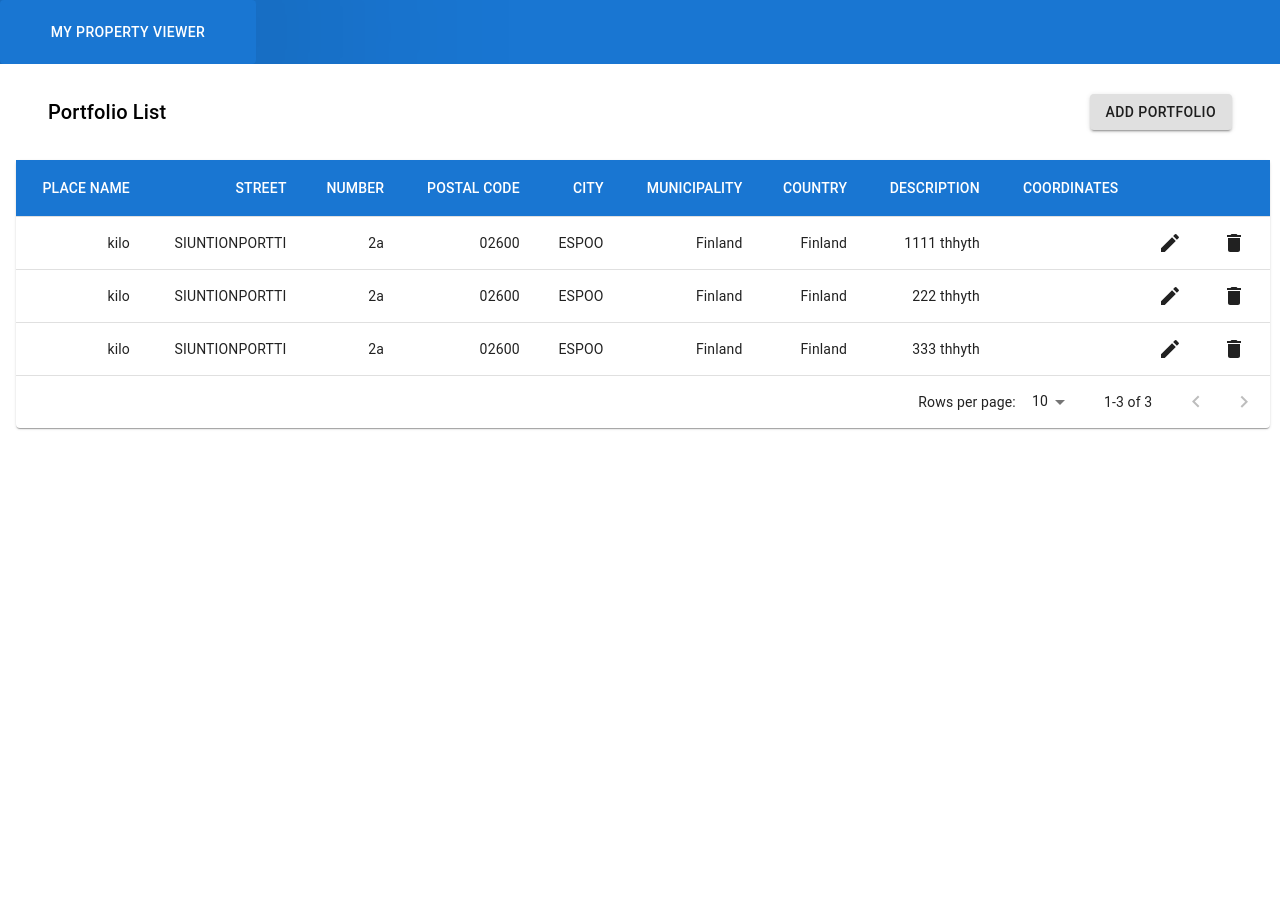
Scenario: App component › renders "open Create New Portfolio page" if Add Portfolio button was clicked
Click the button "Add Portfolio" at (1161, 112), box left=1090, top=94, right=1232, bottom=130
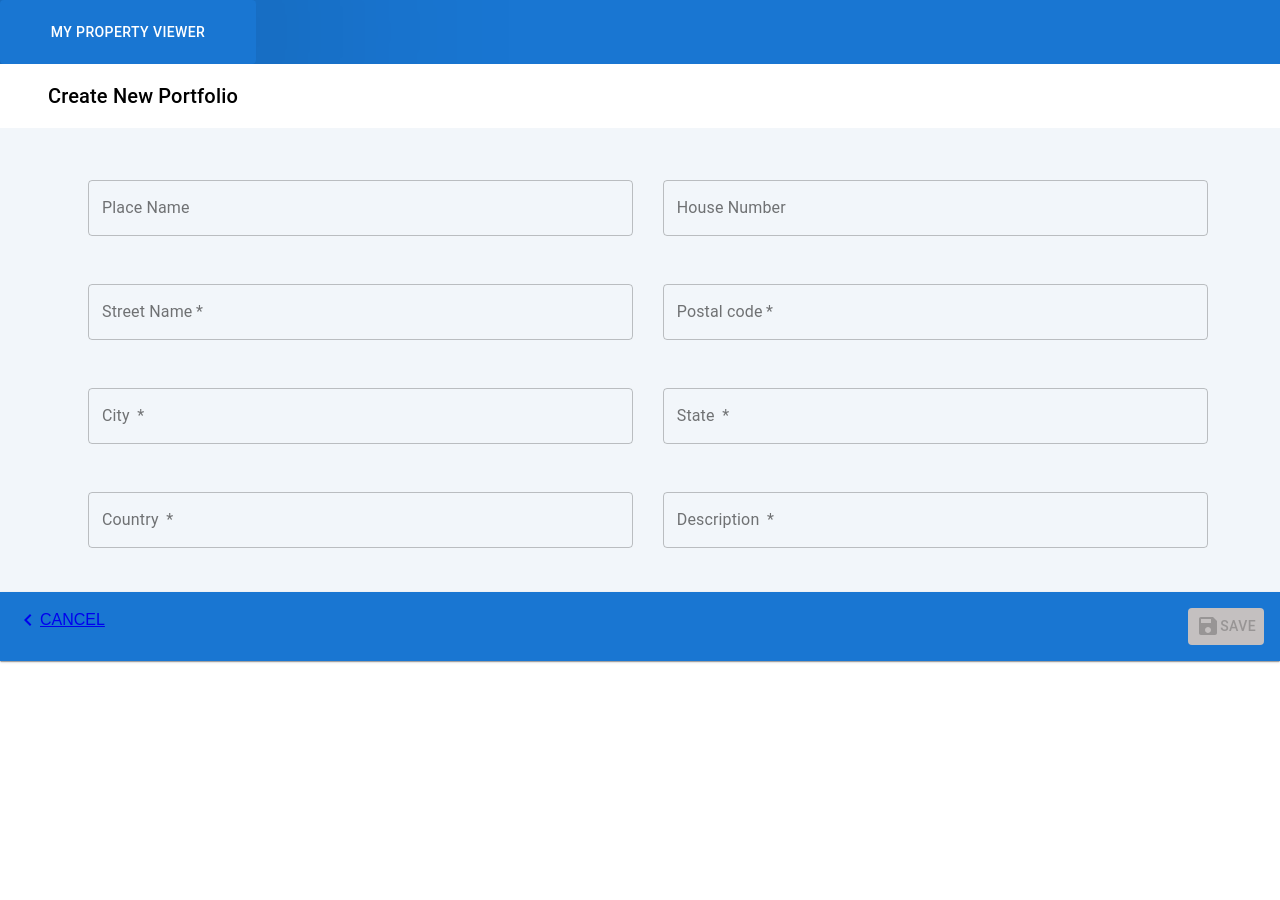
Expected: the heading "Create New Portfolio" is shown, left=48, top=80, right=238, bottom=112
